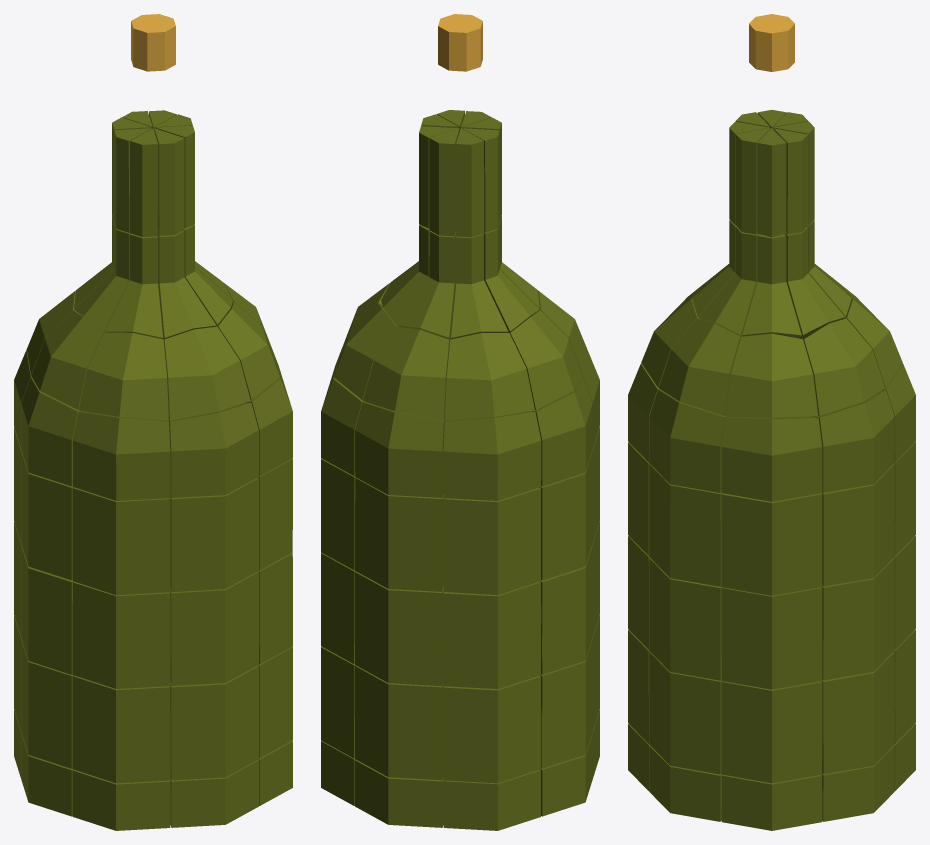
Rendered from bottle-pieces.fbx.
3 views of the same model, side by side, from view 1: azimuth 30°, elevation 25°; view 2: azimuth 150°, elevation 25°; view 3: azimuth 270°, elevation 25° (orthographic).
Parts seen in each view (by area): view 1: bottle_cell.055, bottle_cell.057, bottle_cell.056, bottle_cell.054, bottle_cell.052, bottle_cell.053, bottle_cell.011, bottle_cell.009, bottle_cell.021, bottle_cell.020, bottle_cell.059, bottle_cell.060 (+28 smaller); view 2: bottle_cell.063, bottle_cell.062, bottle_cell.061, bottle_cell.041, bottle_cell.040, bottle_cell.042, bottle_cell.015, bottle_cell.001, bottle_cell.023, bottle_cell.016, bottle_cell.059, bottle_cell.058 (+28 smaller); view 3: bottle_cell.046, bottle_cell.047, bottle_cell.048, bottle_cell.005, bottle_cell.049, bottle_cell.043, bottle_cell.045, bottle_cell.050, bottle_cell.051, bottle_cell.044, bottle_cell.018, bottle_cell.007 (+29 smaller).
Part boxes in pixels (x1,y1,x2,y2): bottle_cell.055: (72,487,170,595); bottle_cell.057: (72,675,170,783); bottle_cell.056: (72,581,170,688); bottle_cell.054: (170,665,258,780); bottle_cell.052: (170,477,258,592); bottle_cell.053: (170,571,258,685); bottle_cell.011: (73,411,170,500); bottle_cell.009: (168,402,258,497); bottle_cell.021: (79,332,168,420); bottle_cell.020: (164,326,250,420); bottle_cell.059: (21,545,73,674); bottle_cell.060: (21,639,73,768); bottle_cell.063: (443,675,541,783); bottle_cell.062: (443,581,541,688); bottle_cell.061: (443,487,540,595); bottle_cell.041: (355,571,443,686); bottle_cell.040: (355,665,444,780); bottle_cell.042: (355,477,443,591); bottle_cell.015: (443,411,541,500); bottle_cell.001: (355,402,446,497); bottle_cell.023: (445,333,534,420); bottle_cell.016: (363,326,449,420); bottle_cell.059: (540,545,592,674); bottle_cell.058: (539,451,592,580); bottle_cell.046: (721,493,822,595); bottle_cell.047: (721,587,822,689); bottle_cell.048: (721,681,822,783); bottle_cell.005: (721,416,822,501); bottle_cell.049: (649,464,722,586); bottle_cell.043: (822,464,894,586); bottle_cell.045: (821,651,894,774); bottle_cell.050: (649,558,721,680); bottle_cell.051: (649,652,722,774); bottle_cell.044: (821,558,894,680); bottle_cell.018: (725,333,818,417); bottle_cell.007: (649,389,731,492).
Bounding box in the file's own units: 41.61 × 119 × 41.61.
